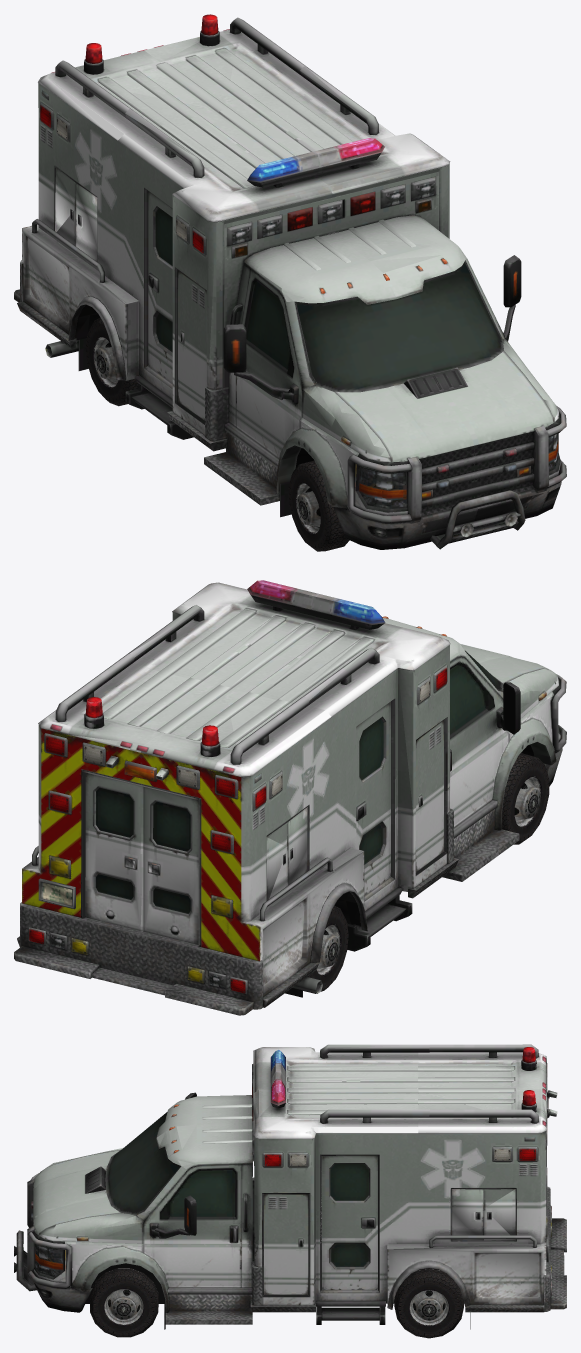
Rendered from glb-6.glb.
3 views of the same model, one above another, from view 1: azimuth 30°, elevation 25°; view 2: azimuth 150°, elevation 25°; view 3: azimuth 270°, elevation 25° (orthographic). The views are drawn at different scales.
Visible parts, largest first — view 1: Mesh_0117_Tex_0116_0_dds_0, Mesh_0095_Tex_0092_0_dds_0; view 2: Mesh_0117_Tex_0116_0_dds_0, Mesh_0095_Tex_0092_0_dds_0; view 3: Mesh_0117_Tex_0116_0_dds_0, Mesh_0095_Tex_0092_0_dds_0.
Boxes of the visible parts, box(x1,y1,x2,y2) form: Mesh_0117_Tex_0116_0_dds_0: box(14, 14, 566, 549); Mesh_0095_Tex_0092_0_dds_0: box(85, 318, 349, 551); Mesh_0117_Tex_0116_0_dds_0: box(14, 580, 566, 1015); Mesh_0095_Tex_0092_0_dds_0: box(303, 753, 549, 993); Mesh_0117_Tex_0116_0_dds_0: box(14, 1044, 566, 1329); Mesh_0095_Tex_0092_0_dds_0: box(90, 1268, 463, 1338).
Size of the model in its own units: 1.22 by 1.18 by 2.58.
Materials: 2 (2 with a texture image).
